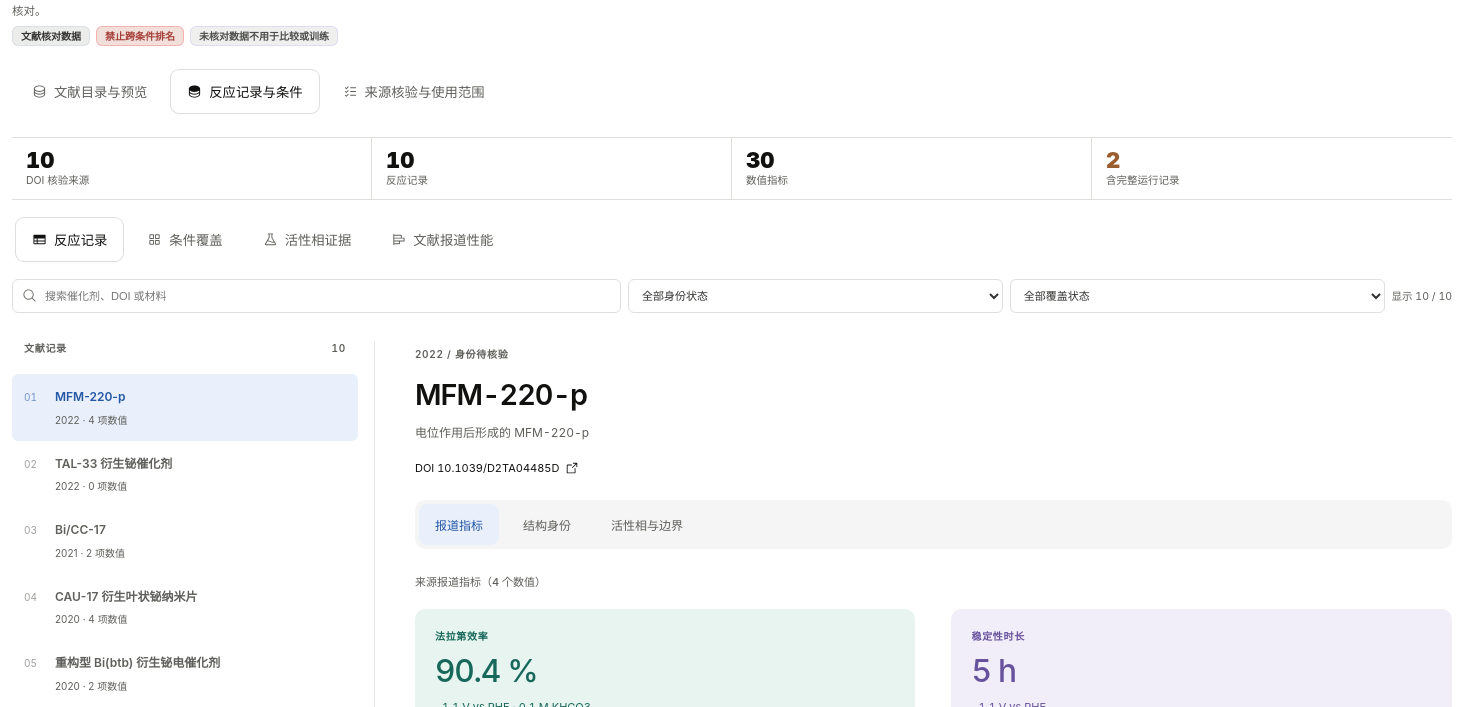
Test: CatalysisLiteratureRecordCenter › separates a verified article structure identifier from the local identity registry join
The width and height of the screenshot is (1464, 707).
Type "Bi-HHTP" into the search field labelled "搜索催化剂、DOI 或材料" at (316, 296), box [12,279,621,313]
(page scrolled)
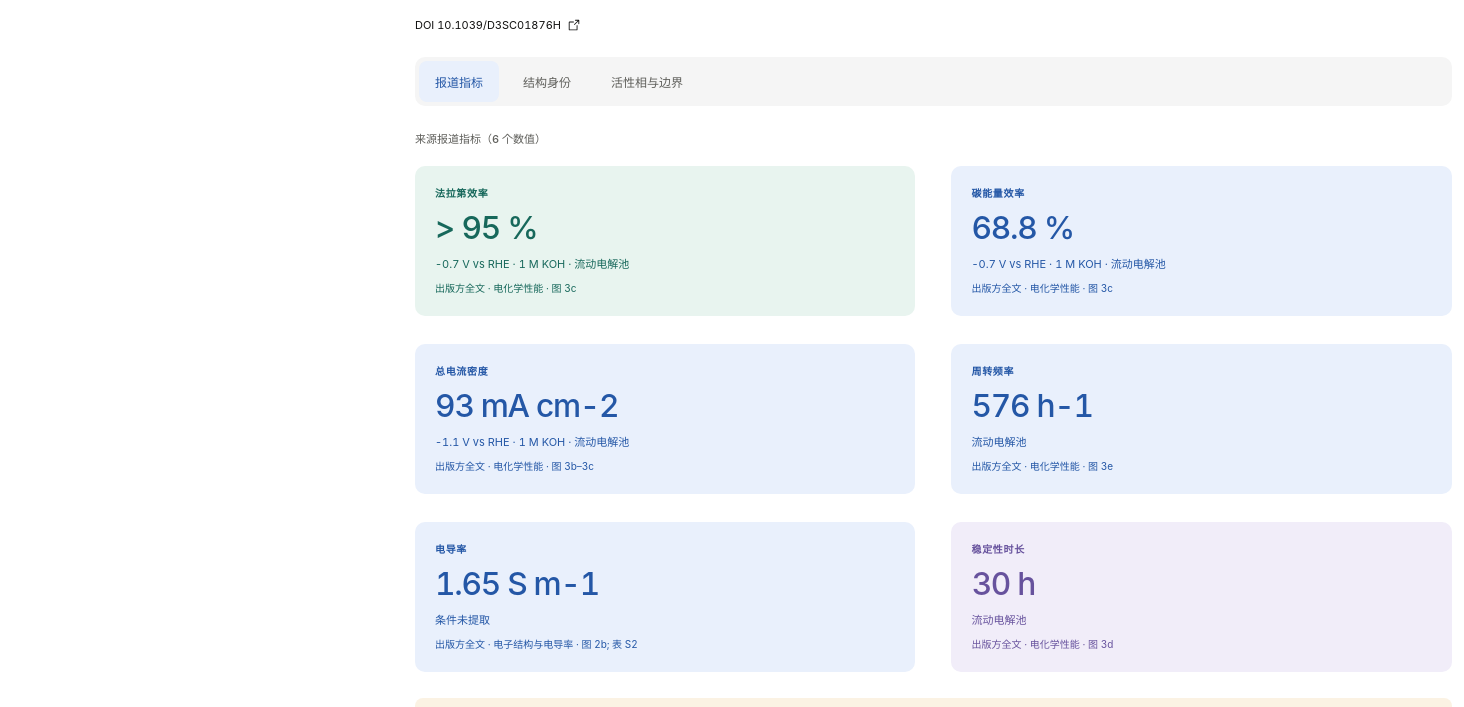
Check: the element with test id "catalysis-record-detail" shows "流动电解池", box [972,435,1026,449]
